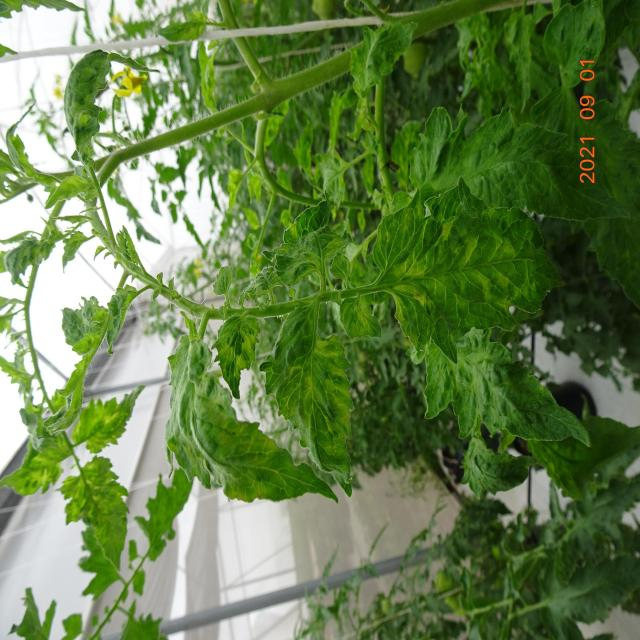T_L_R: (372, 179, 560, 363), (166, 333, 336, 503), (426, 329, 589, 444), (262, 301, 354, 494)
